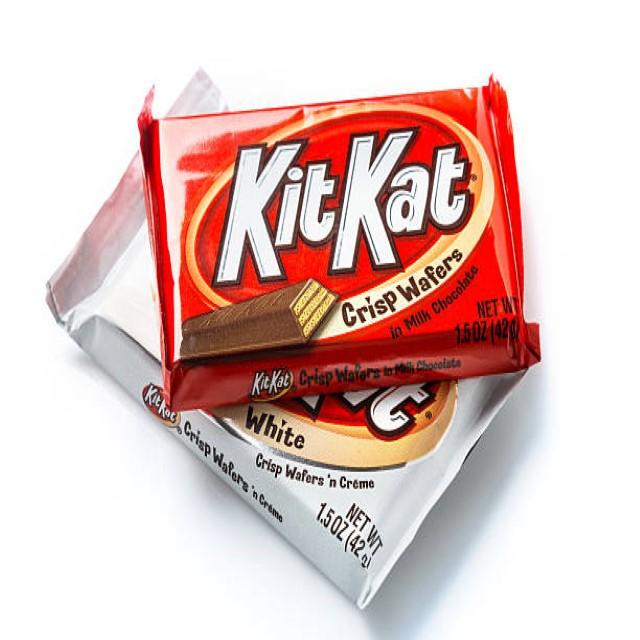kitkat_chocolate: (152, 78, 530, 408)
